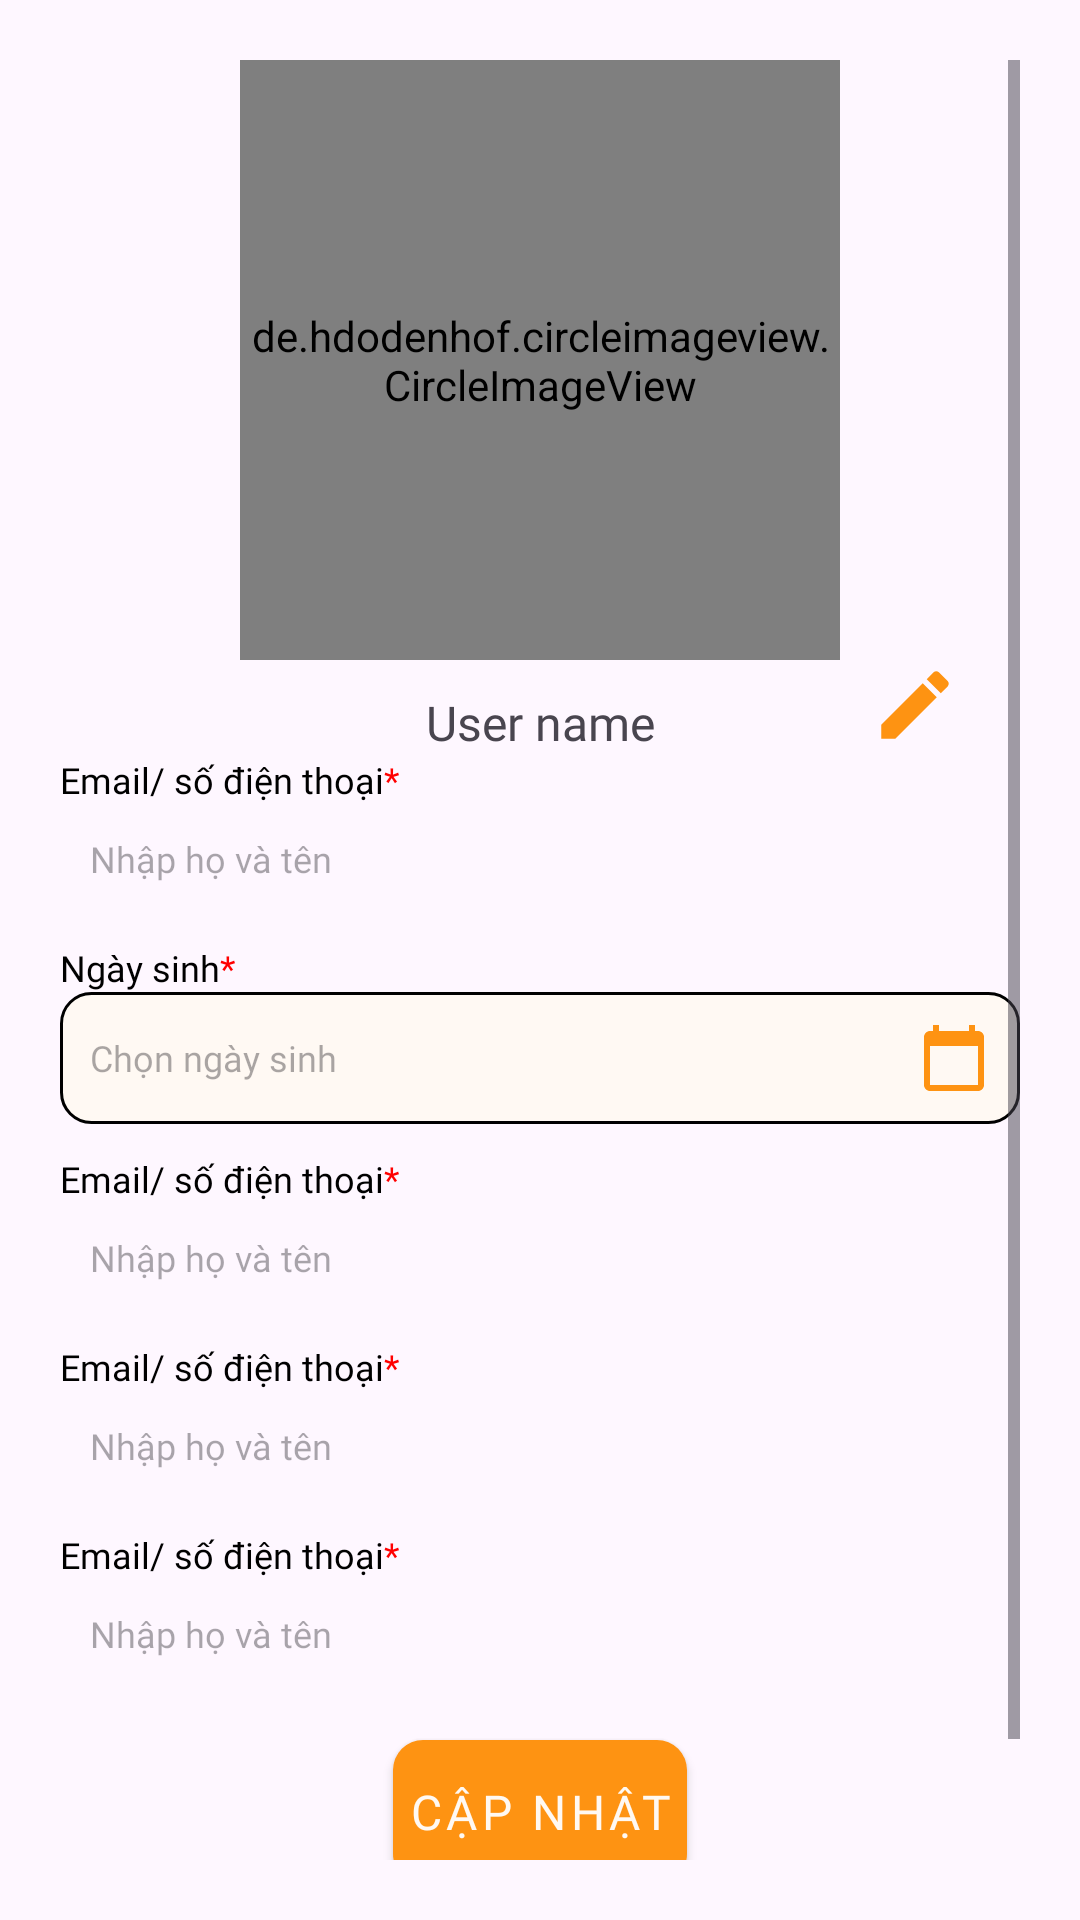

Named icons in this screenshot (1080px×1920px) and their bounding boxes, (x1, y1, x2, y2):
edit: (881, 671, 949, 739)
